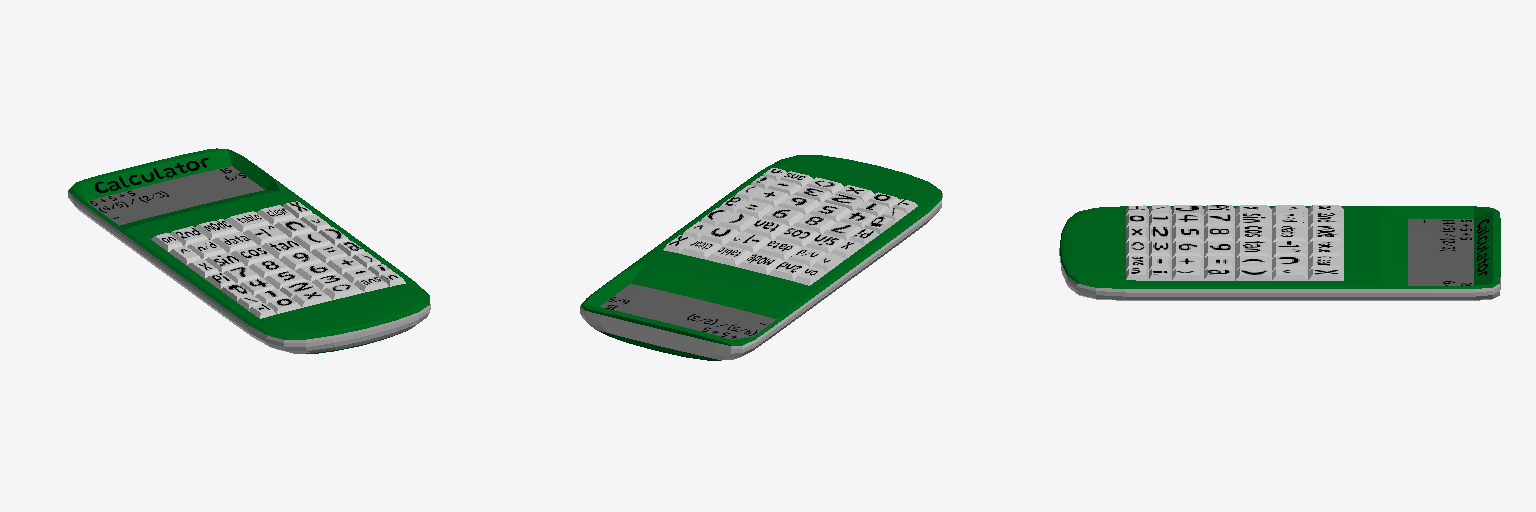
The picture shows the model from 3 angles: view 1: azimuth 30°, elevation 25°; view 2: azimuth 150°, elevation 25°; view 3: azimuth 270°, elevation 25°; orthographic projection.
Parts seen in each view (by area): view 1: Cube.012; view 2: Cube.012; view 3: Cube.012.
Boxes of the visible parts, <box> form: Cube.012: <box>68,148,430,353</box>; Cube.012: <box>580,155,942,360</box>; Cube.012: <box>1059,205,1500,300</box>.
Bounding box in the file's own units: 0.08 × 0.015 × 0.179.
1 materials, 1 textured.